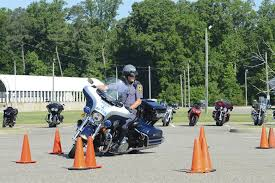helmet: (121, 63, 143, 86)
